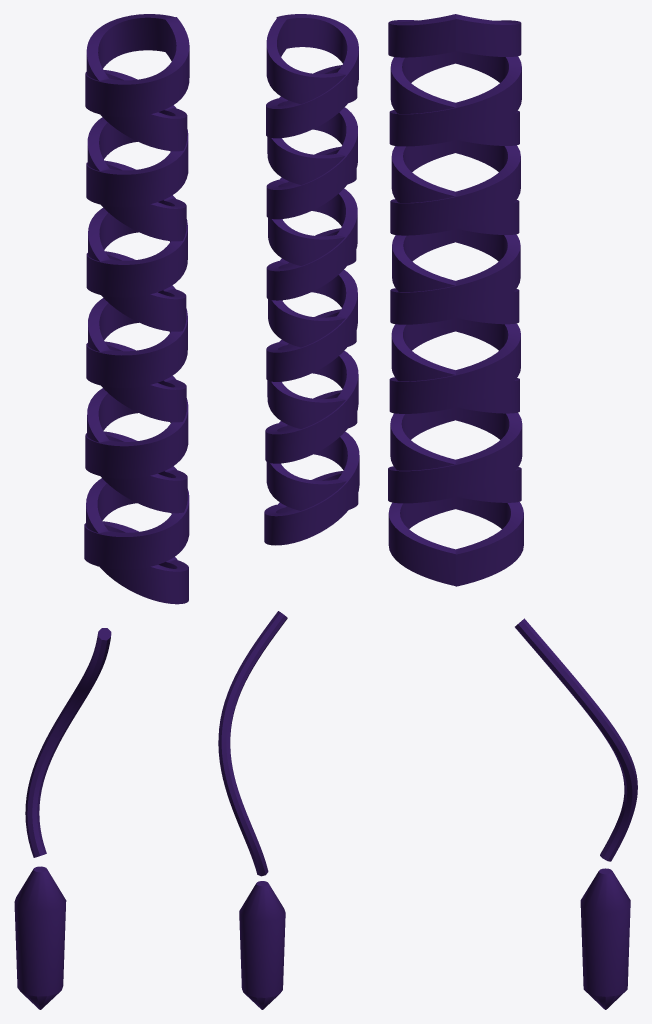
Rendered from Ito.obj.
The picture shows the model from 3 angles, left to right: view 1: azimuth 30°, elevation 25°; view 2: azimuth 150°, elevation 25°; view 3: azimuth 270°, elevation 25°; orthographic projection. The views are drawn at different scales.
Parts seen in each view (by area): view 1: Ito; view 2: Ito; view 3: Ito.
Boxes of the visible parts, box(x1,y1,x2,y2) form: Ito: box(14, 14, 189, 1009); Ito: box(218, 14, 359, 1009); Ito: box(388, 14, 637, 1009).
Bounding box in the file's own units: 0.1933 × 2.29 × 0.5078.
